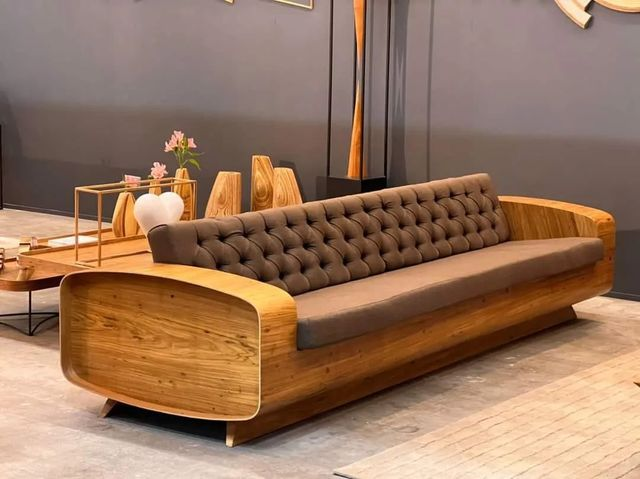3seatersofa: (61, 174, 614, 446)
backrest: (149, 174, 509, 294)
leftarmrest: (501, 196, 614, 290)
leg: (223, 261, 610, 448), (99, 398, 117, 417)
rightarmrest: (60, 264, 296, 419)
seat: (296, 237, 602, 350)
